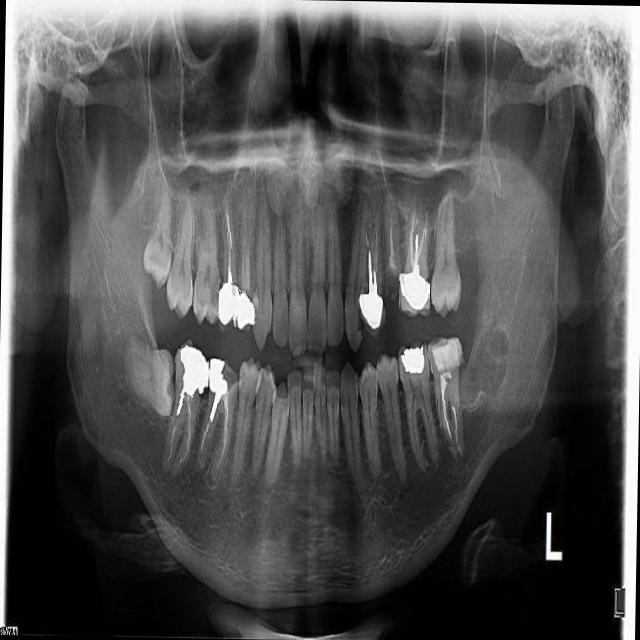dentin-curugu: (375, 260, 406, 314), (222, 359, 250, 394)
dolgu: (214, 282, 260, 338), (176, 344, 210, 392), (398, 269, 432, 313), (357, 294, 392, 332), (204, 361, 229, 401), (393, 346, 428, 374)
kanal-tedavisi: (433, 370, 471, 450), (166, 383, 196, 462), (206, 385, 234, 469), (360, 210, 384, 306), (218, 192, 240, 288), (402, 209, 430, 275)
kirik: (269, 369, 299, 409)
